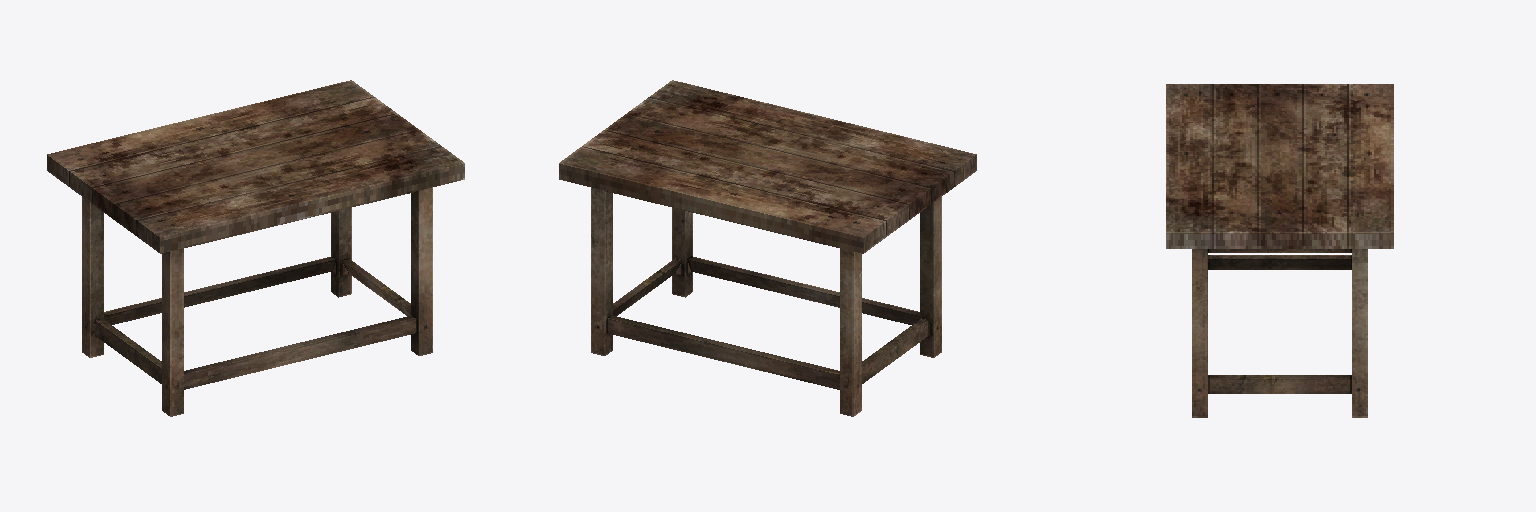
3 views of the same model, side by side, from view 1: azimuth 30°, elevation 25°; view 2: azimuth 150°, elevation 25°; view 3: azimuth 270°, elevation 25° (orthographic).
Visible parts, largest first — view 1: AA_Kitchen_WoodTable_St; view 2: AA_Kitchen_WoodTable_St; view 3: AA_Kitchen_WoodTable_St.
Part boxes in pixels (x1,y1,x2,y2): AA_Kitchen_WoodTable_St: (47, 80, 464, 416); AA_Kitchen_WoodTable_St: (559, 80, 976, 416); AA_Kitchen_WoodTable_St: (1166, 84, 1393, 417).
Size of the model in its own units: 157 by 95.65 by 102.
Materials: 1 (1 with a texture image).